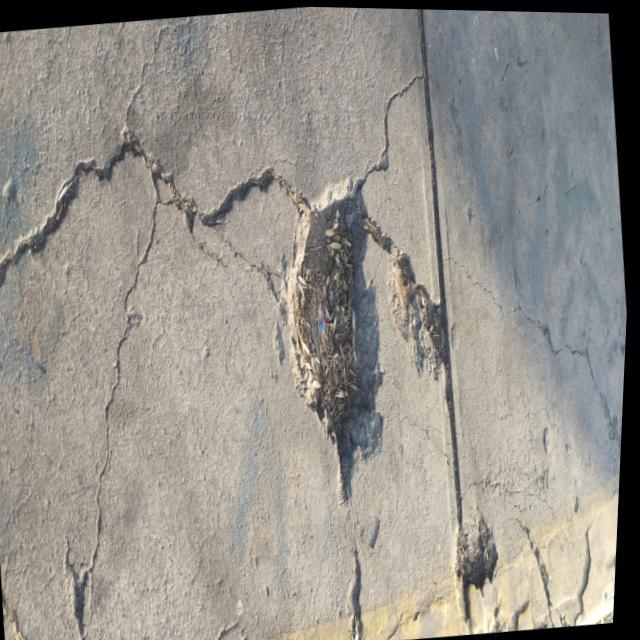hole: (269, 170, 412, 516)
